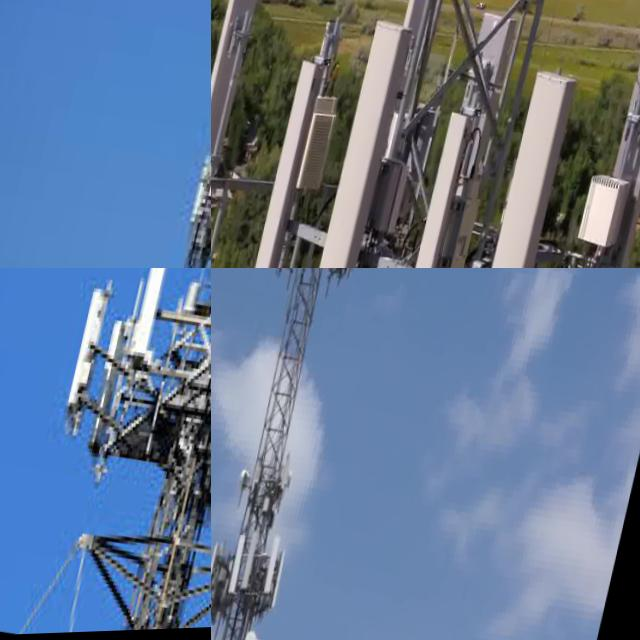GSM Antenna: (273, 13, 419, 268), (412, 0, 528, 268), (438, 62, 588, 268), (236, 51, 326, 268), (557, 46, 640, 268), (379, 100, 482, 268), (365, 0, 434, 204), (211, 0, 260, 268), (63, 284, 120, 429), (129, 268, 185, 368), (266, 543, 295, 623), (259, 532, 289, 609), (226, 528, 255, 602), (239, 526, 266, 596), (211, 542, 229, 606), (203, 122, 211, 210)
Microwave Antenna: (238, 468, 258, 499), (284, 473, 297, 493), (245, 629, 262, 640)
